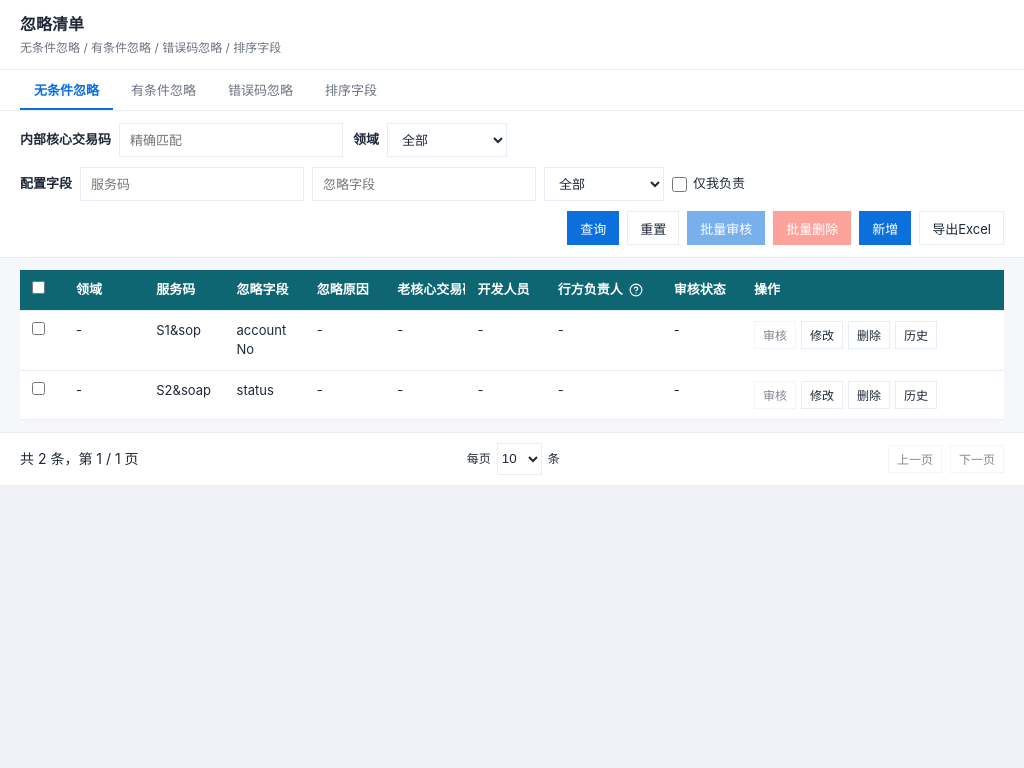
Scenario: ReplayConfigPage（忽略清单） › deletes a row through the centered confirm modal
Click the button with test id "delete-1". click: (869, 334)
box: [848, 320, 890, 348]
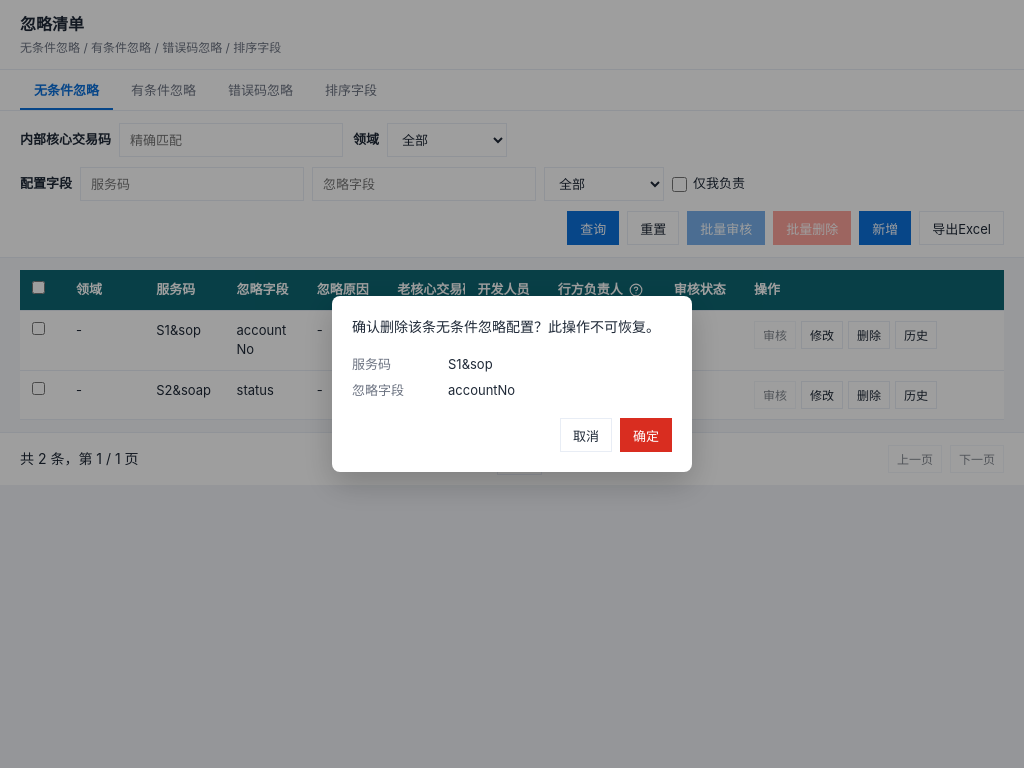
Check: the dialog with test id "confirm-modal" is shown, box [332, 296, 692, 472]
Check: the dialog with test id "confirm-modal" shows "此操作不可恢复", box [352, 318, 660, 335]
Check: the dialog with test id "confirm-modal" shows "S1&sop", box [448, 356, 493, 372]
Click the button with test id "confirm-ok". click: (646, 435)
box: [620, 418, 672, 452]
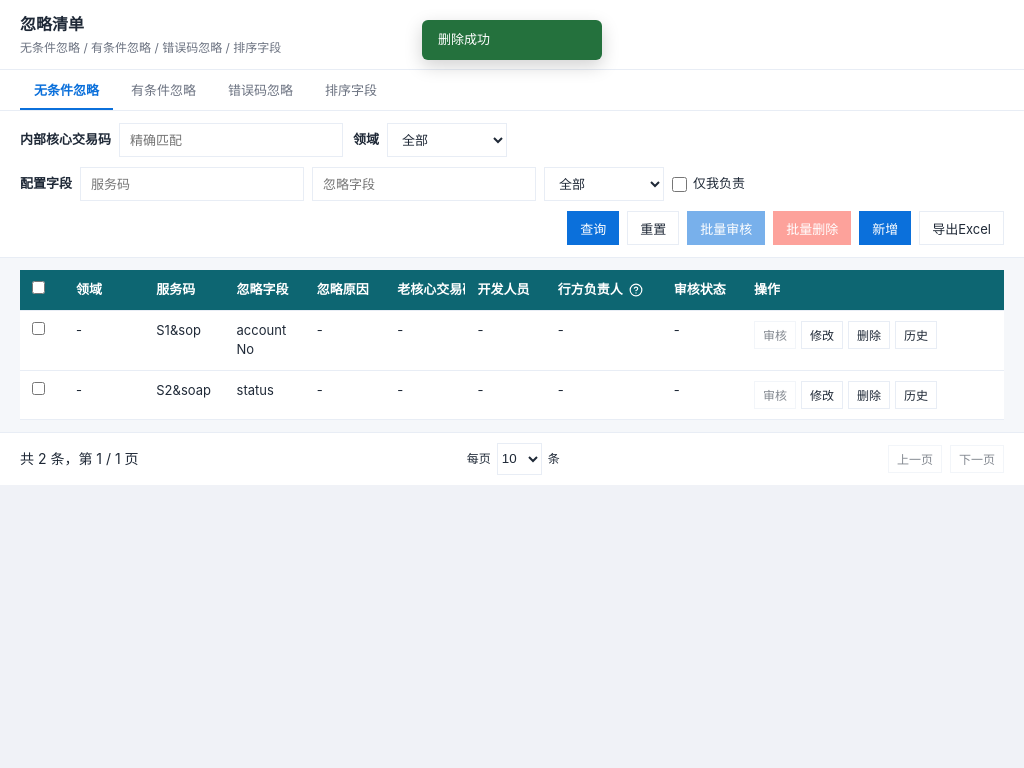
Check: the message with test id "toast" reads "删除成功", box [438, 31, 490, 47]
